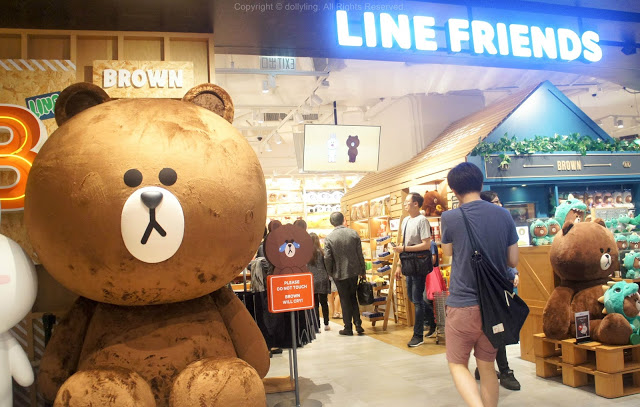line_brown: (18, 75, 274, 311), (545, 217, 627, 289), (261, 218, 320, 271), (346, 135, 361, 150)
